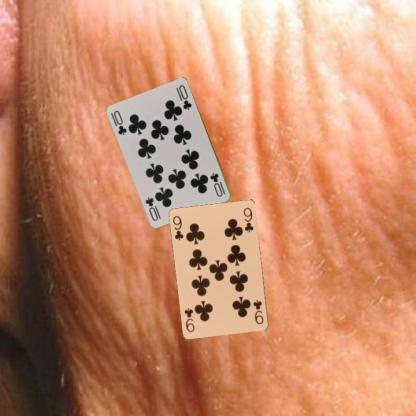10c: (208, 171, 226, 198), (111, 108, 128, 136)
9c: (170, 213, 185, 242), (251, 297, 265, 326)
